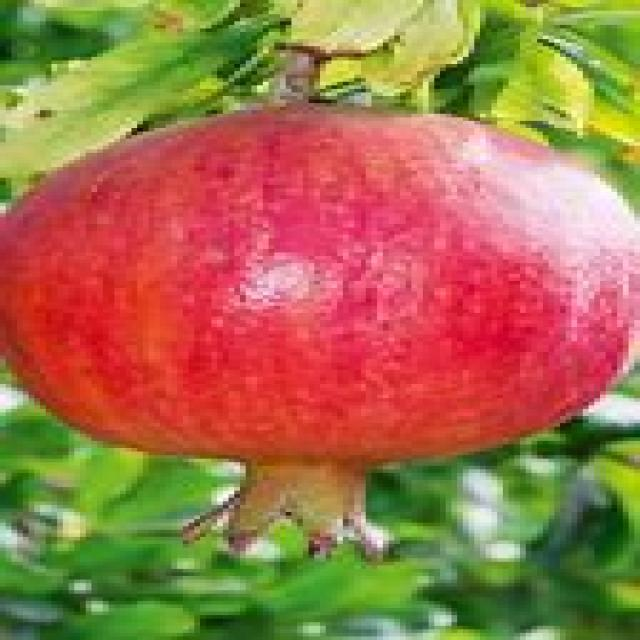Pomegranate: (0, 92, 640, 567)
